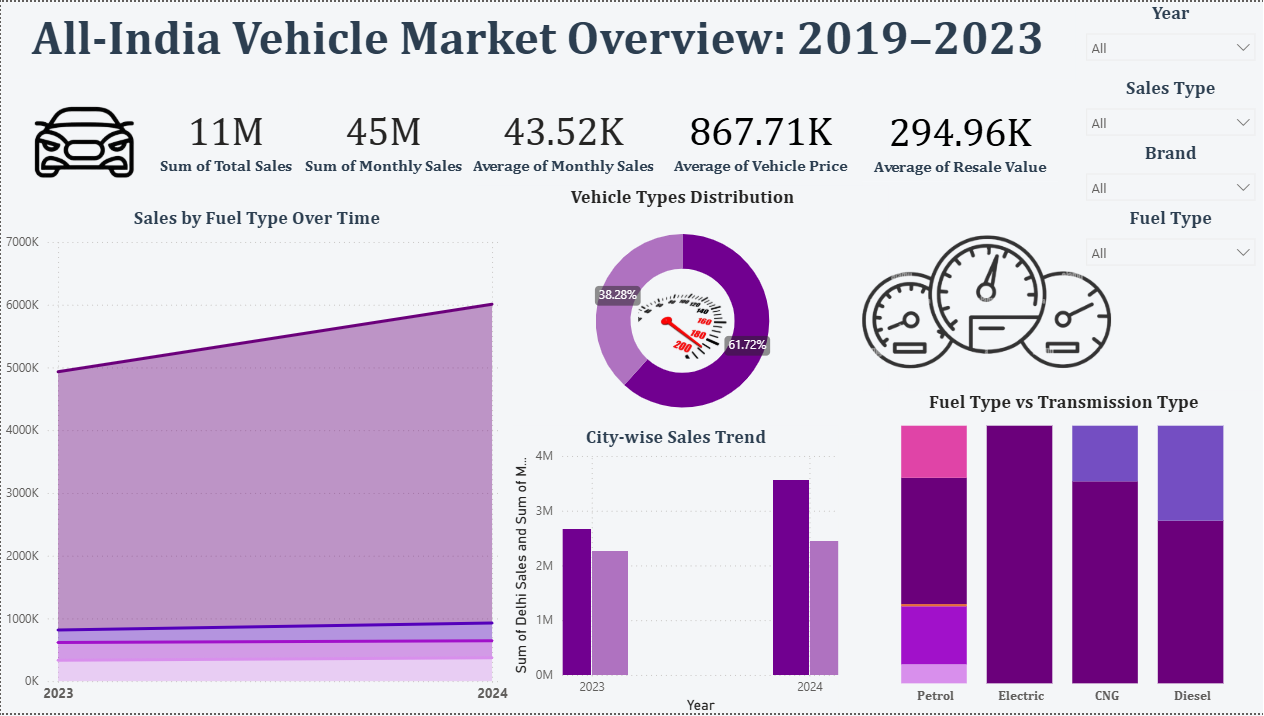

What the dashboard file says about the page in this screenshot:
{"tool":"powerbi","page":{"name":"Page 2","canvas":[1280,720],"ordinal":1},"visuals":[{"type":"card","fields":{"Values":["Sum(Vehicle_Sales_&_Trends_Data(overall india).Total Sales)"]},"box":[154.1,91.7,146.7,94.2],"z":0},{"type":"card","fields":{"Values":["Sum(Vehicle_Sales_&_Trends_Data(overall india).Monthly Sales)"]},"box":[300.8,91.7,172.4,94.2],"z":1000},{"type":"card","fields":{"Values":["Avg(Vehicle_Sales_&_Trends_Data(overall india).Monthly Sales)"]},"box":[473.2,91.7,192,94.2],"z":2000},{"type":"card","title":"AVG Vehicle Price","fields":{"Values":["Avg(Vehicle_Sales_&_Trends_Data(overall india).Vehicle Price(EX-showroom,RTO,Insurance))"]},"box":[665.2,91.7,206.7,94.2],"z":3000},{"type":"card","title":"AVG. Resale Value","fields":{"Values":["Avg(Vehicle_Sales_&_Trends_Data(overall india).Resale Value)"]},"box":[871.9,96.6,198.1,85.6],"z":4000},{"type":"slicer","title":"Fuel Type","fields":{"Values":["Vehicle_Info_Data.Fuel Type"]},"box":[1088.3,207.9,192,66],"z":5000},{"type":"slicer","title":"Brand","fields":{"Values":["Vehicle_Info_Data.Brand"]},"box":[1088.3,141.8,192,66],"z":6000},{"type":"slicer","title":"Year","fields":{"Values":["Vehicle_Sales_&_Trends_Data(overall india).Year"]},"box":[1088.3,0,192,75.8],"z":7000},{"type":"slicer","title":"Sales Type","fields":{"Values":["Vehicle_Sales_&_Trends_Data(overall india).Sales Type(New/Resold)"]},"box":[1088.3,75.8,192,66],"z":8000},{"type":"textbox","box":[0,2.4,1088.3,75.8],"z":9000},{"type":"image","box":[0,69.7,168.8,144.3],"z":10000},{"type":"donutChart","title":"Vehicle Types Distribution","fields":{"Category":["Vehicle_Sales_&_Trends_Data(overall india).Vehicle Category"],"Y":["CountNonNull(Vehicle_Sales_&_Trends_Data(overall india).Vehicle id)"]},"box":[481.8,185.9,415.8,251.9],"z":11000},{"type":"hundredPercentStackedColumnChart","title":"Fuel Type vs Transmission Type","fields":{"Series":["Vehicle_Info_Data.Transmission Type"],"Category":["Vehicle_Sales_&_Trends_Data(overall india).Fuel Type"],"Y":["CountNonNull(Vehicle_Sales_&_Trends_Data(overall india).Model)"]},"box":[871.9,393.8,408.4,326.5],"z":12000},{"type":"stackedAreaChart","title":"Sales by Fuel Type Over Time","fields":{"Category":["Vehicle_Sales_&_Trends_Data(overall india).Year"],"Series":["Vehicle_Sales_&_Trends_Data(overall india).Fuel Type"],"Y":["Sum(Vehicle_Sales_&_Trends_Data(overall india).Total Sales)"]},"box":[0,207.9,518.5,512.4],"z":13000},{"type":"lineClusteredColumnComboChart","title":" City-wise Sales Trend","fields":{"Category":["Vehicle_Sales_&_Trends_Data(overall india).Year"],"Y":["Sum(Vehicle_Sales_&_Trends_Data(overall india).Delhi Sales)","Sum(Vehicle_Sales_&_Trends_Data(overall india).Mumbai Sales)"]},"box":[519,429.1,329.1,291.1],"z":14000},{"type":"image","box":[848.6,231.1,299.6,161.4],"z":15000},{"type":"image","box":[640.5,283.5,103.8,84.8],"z":16000}]}

Visuals, with their boxes in screenshot pixels (x1, y1, x2, y2), scaled from the page's 1280x720 canvas onto the 1264x716 screenshot:
card - Sum(Vehicle_Sales_&_Trends_Data(overall india).Total Sales): 152:91:297:185
card - Sum(Vehicle_Sales_&_Trends_Data(overall india).Monthly Sales): 297:91:467:185
card - Avg(Vehicle_Sales_&_Trends_Data(overall india).Monthly Sales): 467:91:657:185
"AVG Vehicle Price" card: 657:91:861:185
"AVG. Resale Value" card: 861:96:1057:181
"Fuel Type" slicer: 1075:207:1263:272
"Brand" slicer: 1075:141:1263:207
"Year" slicer: 1075:0:1263:75
"Sales Type" slicer: 1075:75:1263:141
textbox: 0:2:1075:78
image: 0:69:167:213
"Vehicle Types Distribution" donutChart: 476:185:886:435
"Fuel Type vs Transmission Type" hundredPercentStackedColumnChart: 861:392:1263:715
"Sales by Fuel Type Over Time" stackedAreaChart: 0:207:512:715
" City-wise Sales Trend" lineClusteredColumnComboChart: 513:427:837:715
image: 838:230:1134:390
image: 632:282:735:366
